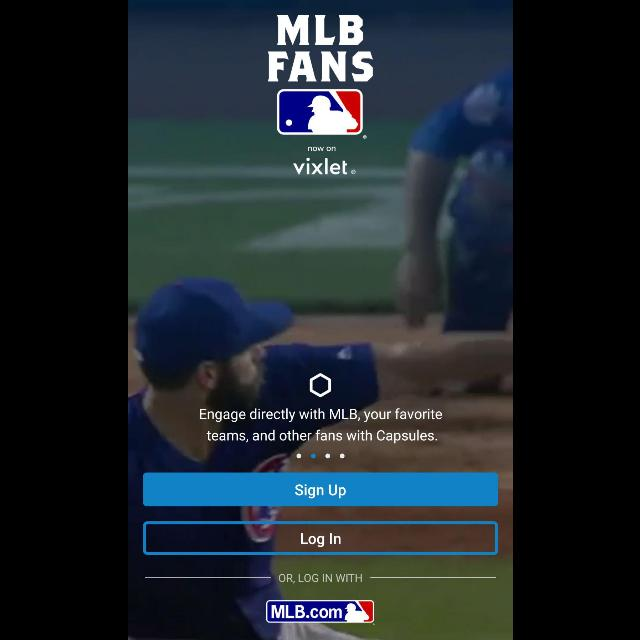backgroundimage: (128, 1, 512, 640)
image: (267, 15, 373, 139), (265, 600, 373, 622), (292, 158, 356, 176), (309, 372, 331, 398)
pageindicator: (296, 453, 344, 459)
text: (198, 408, 442, 442), (278, 572, 362, 584), (307, 146, 335, 152)
textbutton: (142, 473, 498, 507), (142, 521, 498, 555)
